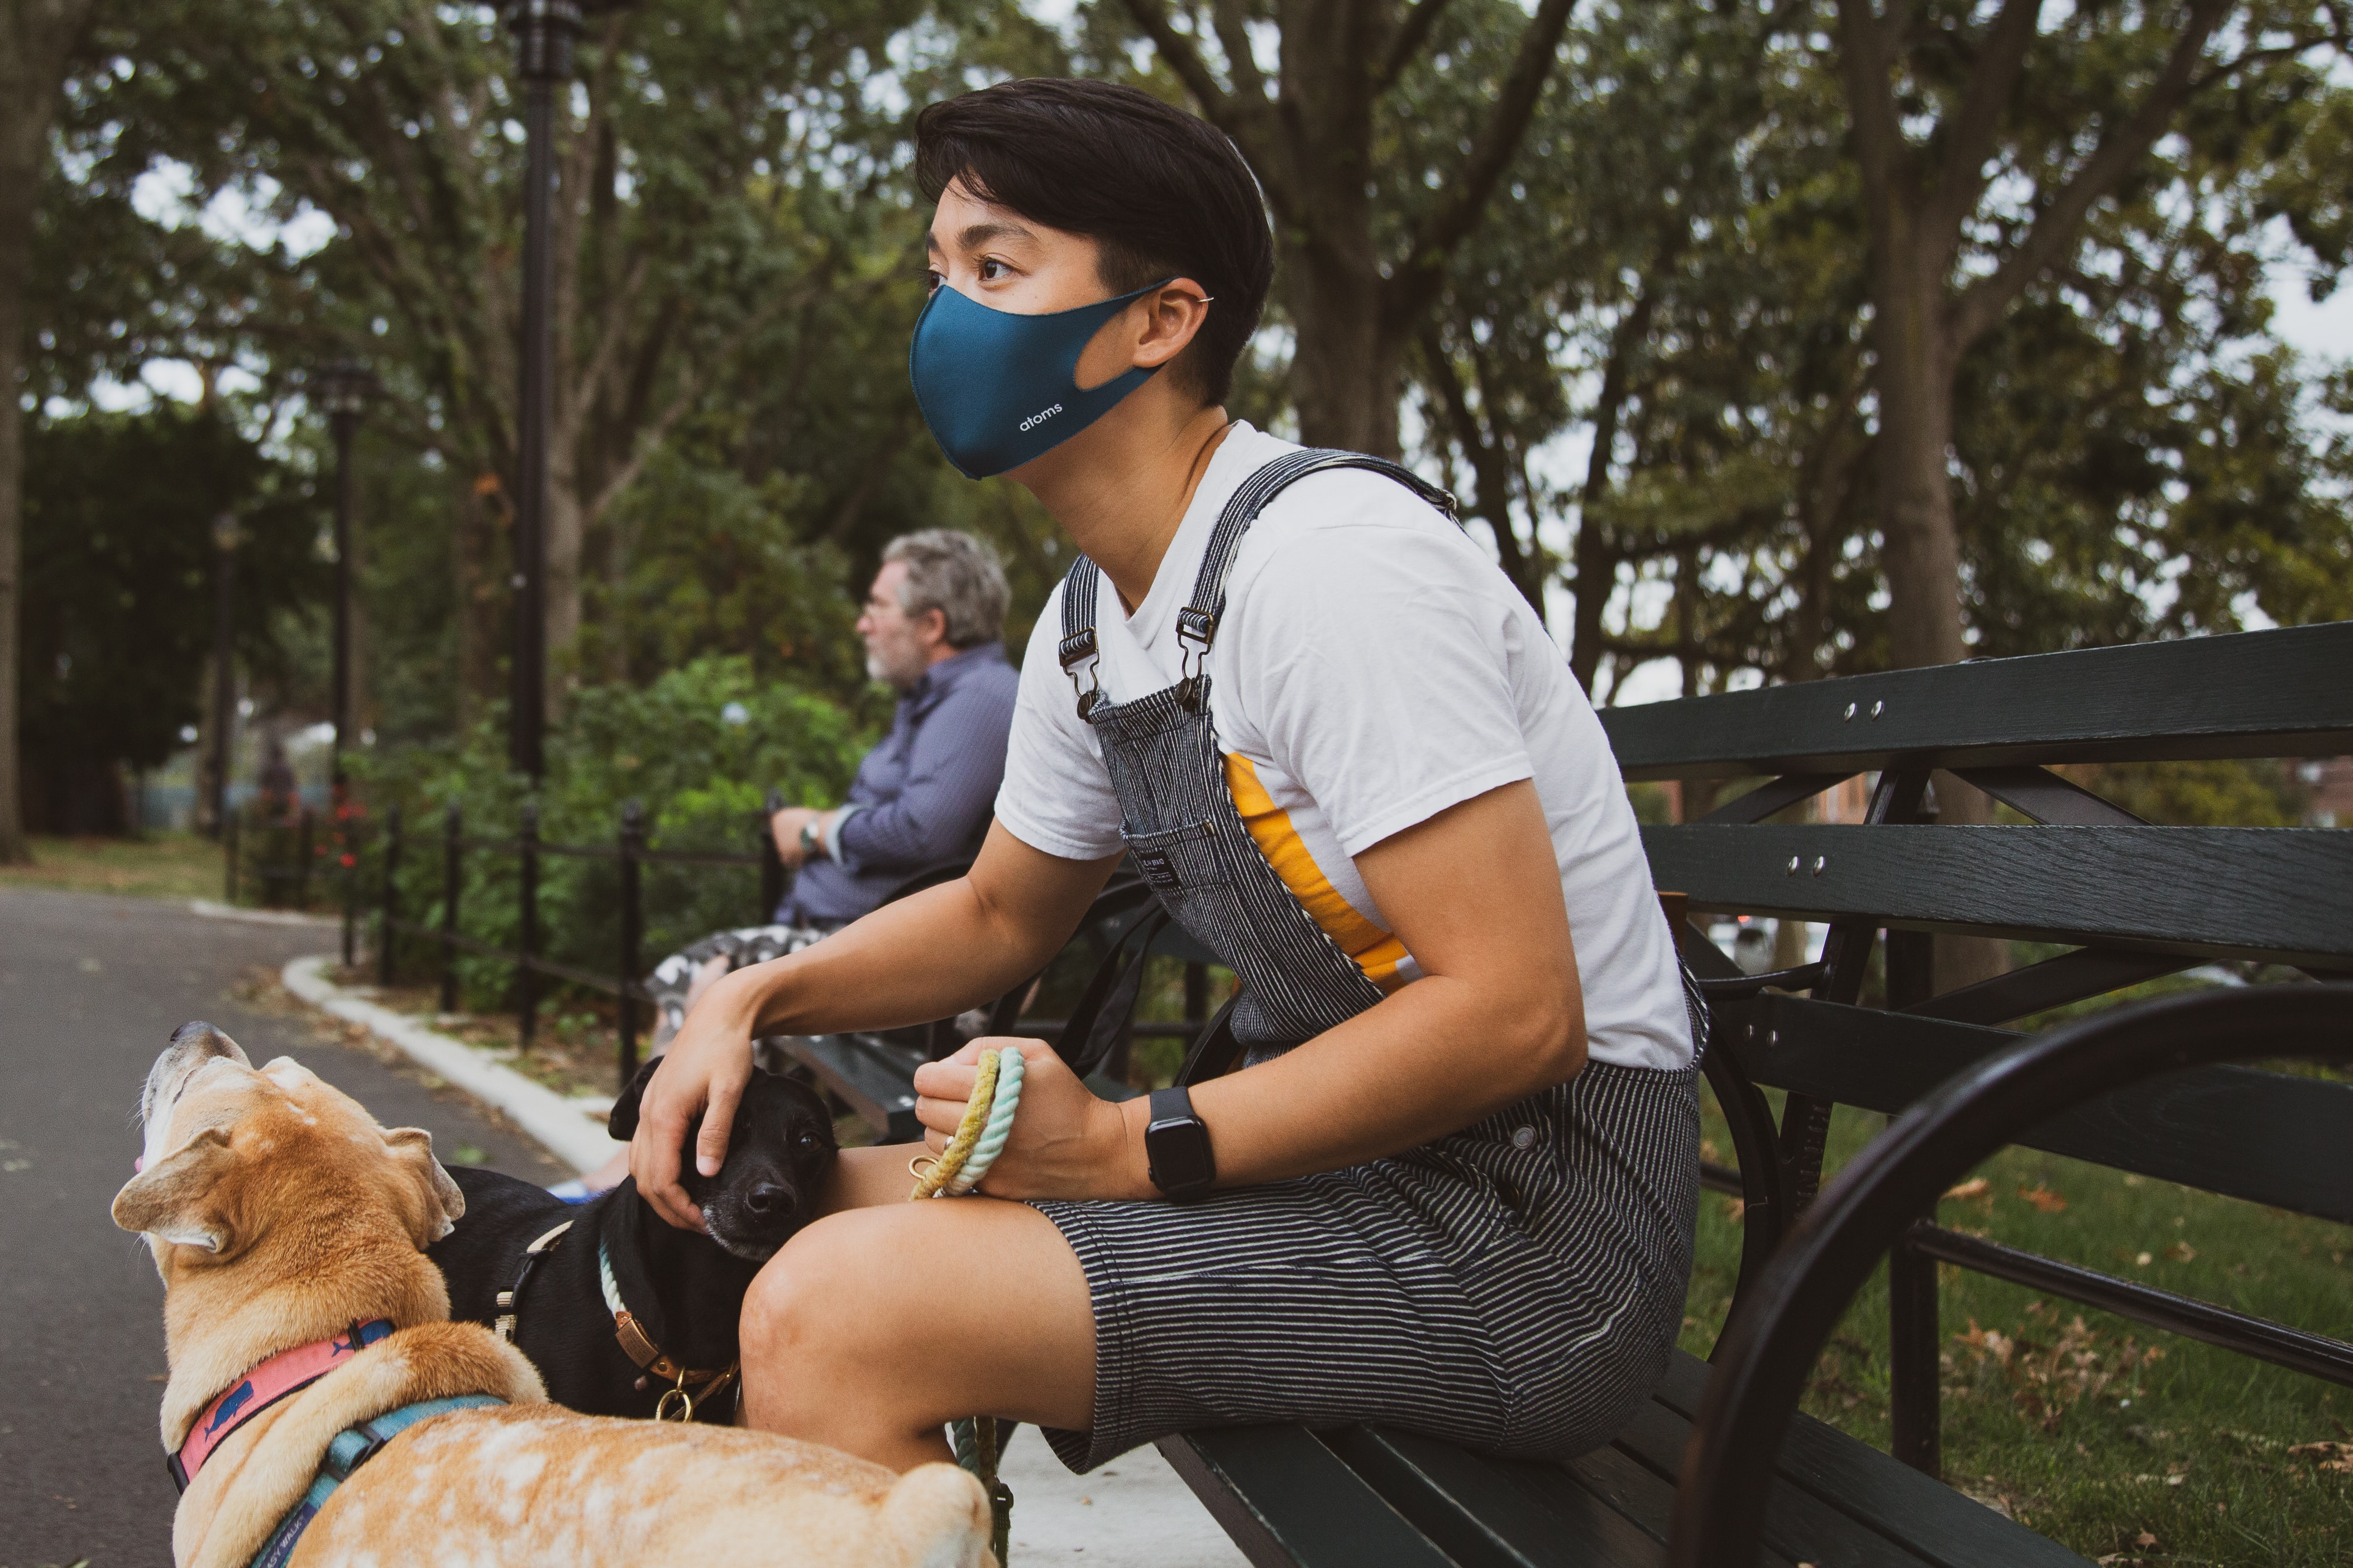mask: (891, 279, 1145, 485)
person: (805, 64, 1732, 1540), (648, 520, 1025, 1024)
